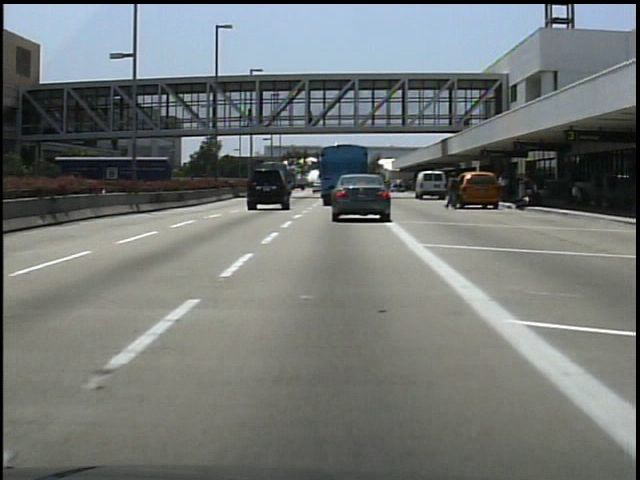person: (446, 175, 465, 217), (304, 108, 318, 135), (242, 105, 257, 129)
